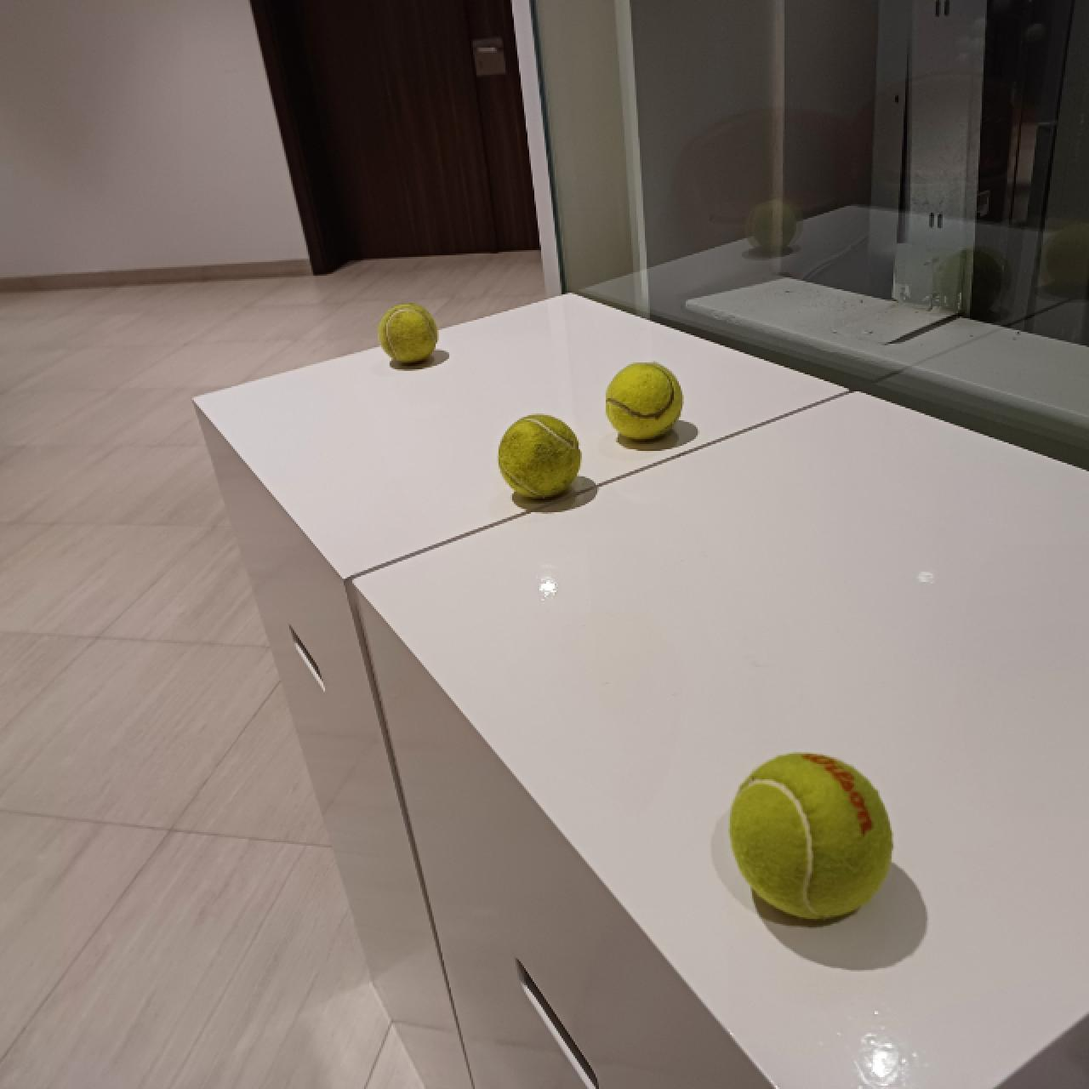tennis-ball: (732, 752, 894, 924), (496, 412, 582, 503), (603, 362, 687, 442), (379, 306, 438, 367)
